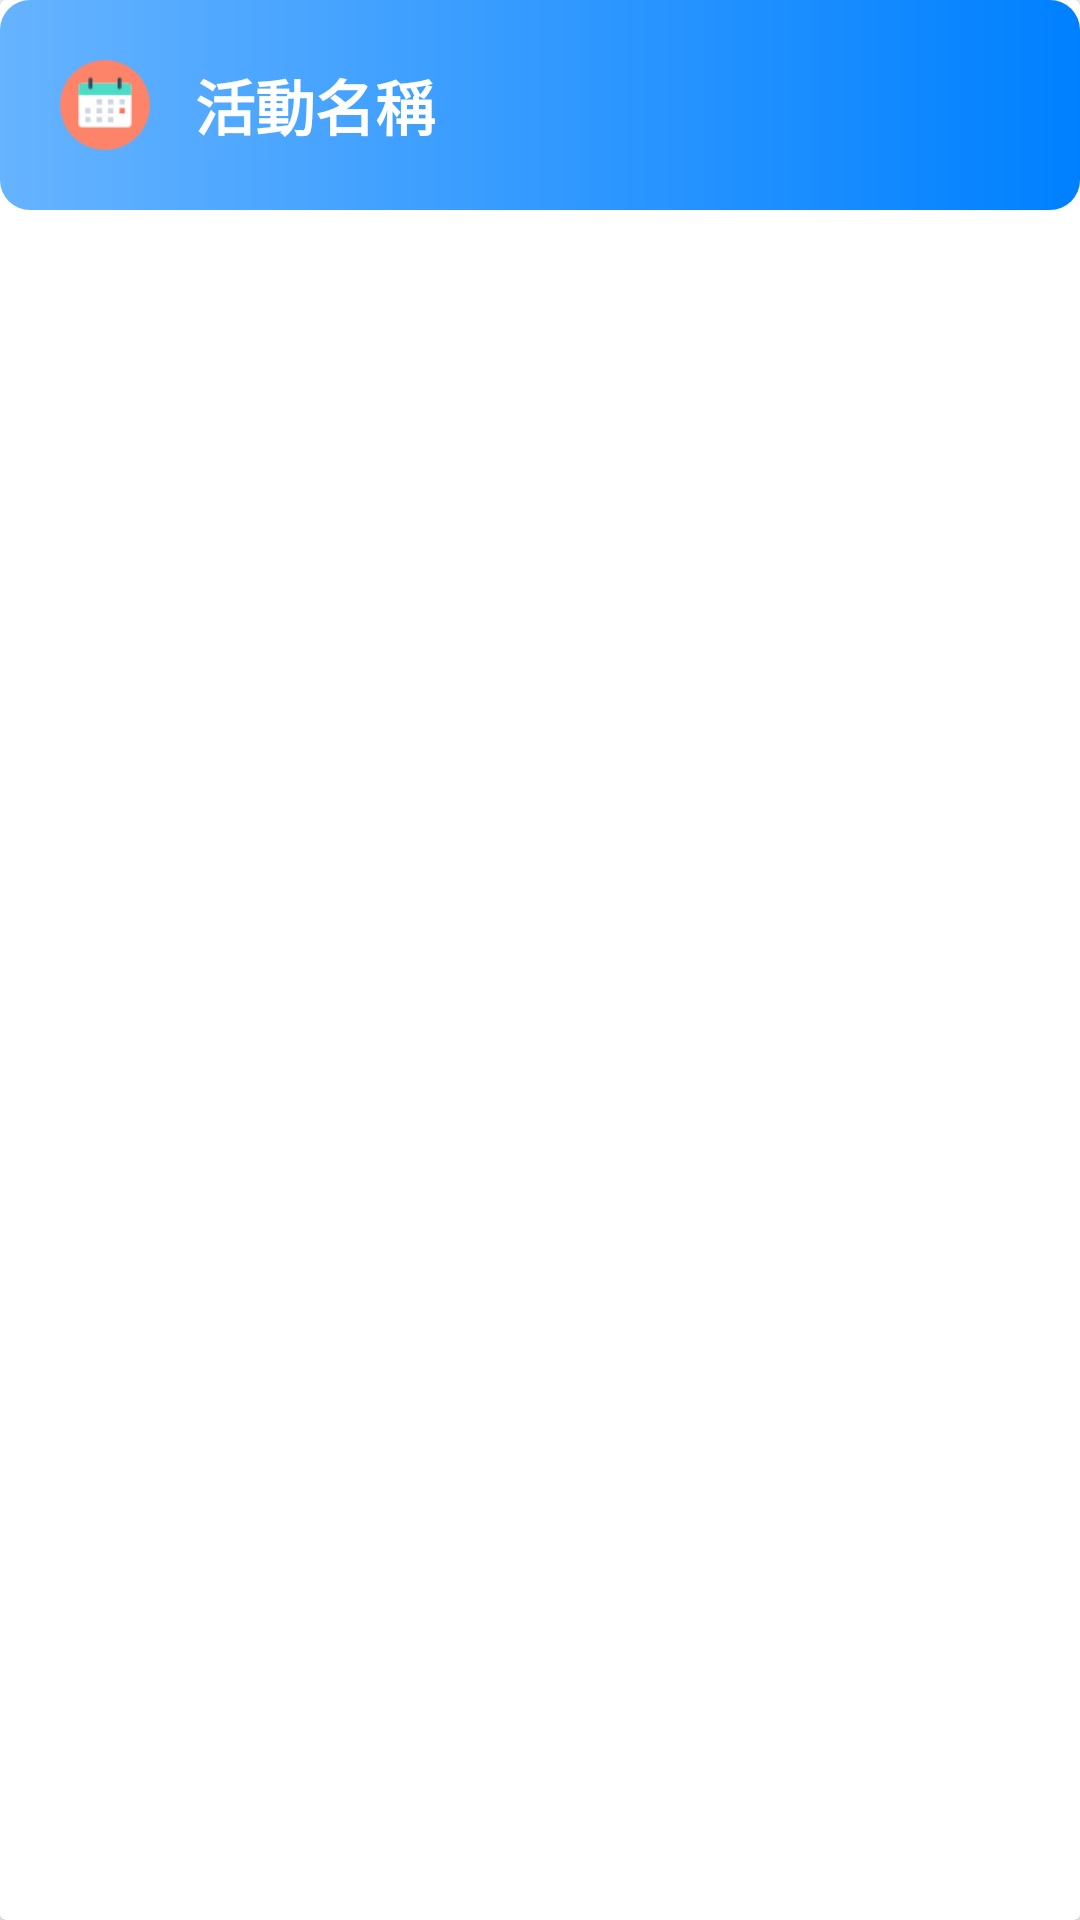

Named icons in this screenshot (1080*1920) and their bounding boxes, (x1, y1, x2, y2):
date: (60, 60, 150, 150)
